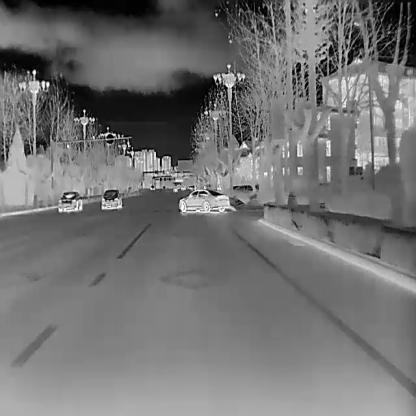car: (178, 188, 229, 211), (228, 182, 260, 202), (57, 189, 83, 212), (99, 188, 123, 209), (150, 185, 154, 190)
